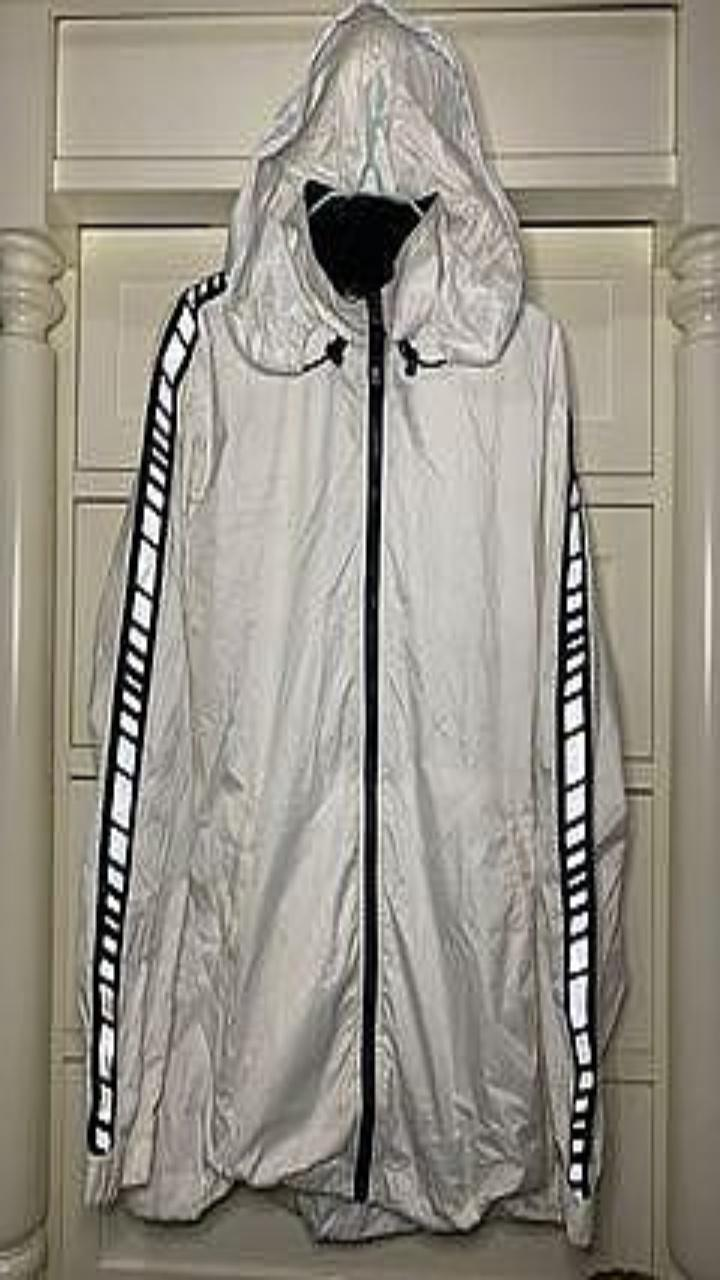Sports_Jacket: (80, 2, 626, 1244)
